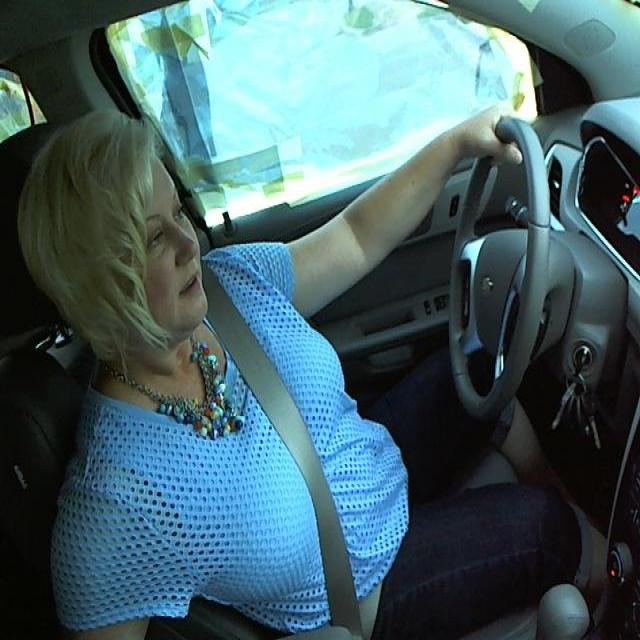seatbelt: (203, 307, 362, 609)
